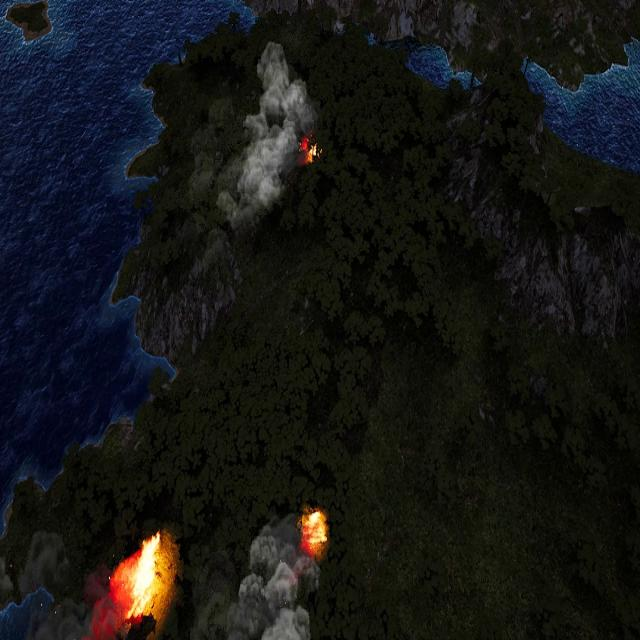fire: (114, 530, 166, 622), (301, 507, 328, 555), (302, 138, 321, 166)
smoke: (184, 39, 319, 287), (163, 510, 327, 637), (0, 527, 128, 637)
